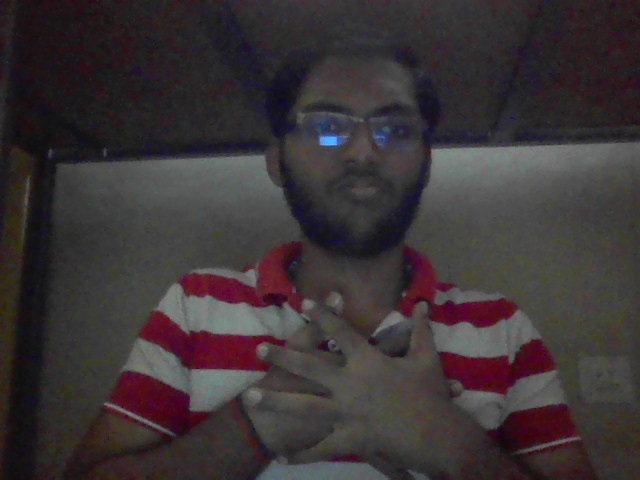Yes_Hungry: (221, 284, 509, 480)
